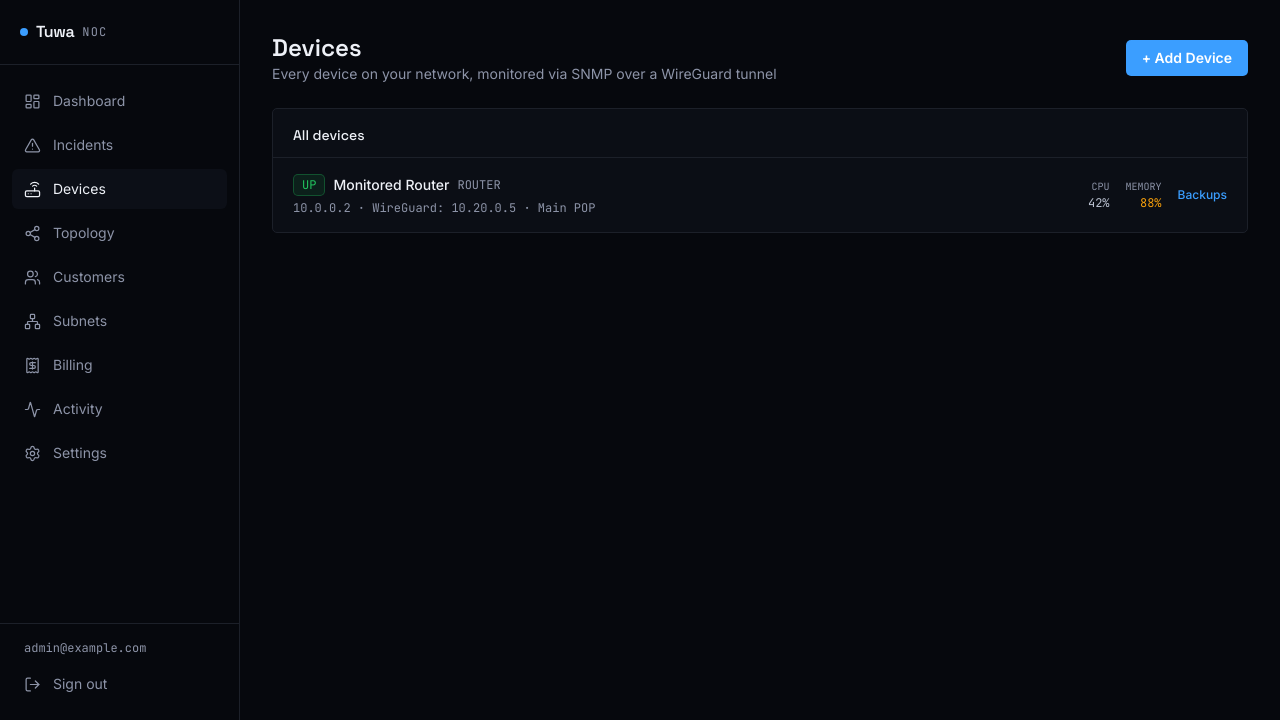
Test case: Devices › expands to show real config backups when Backups is clicked
expect the text "Monitored Router" is shown: met, box [333,175,449,195]
Click the button "Backups": point(1202, 195) [1178,187,1227,203]
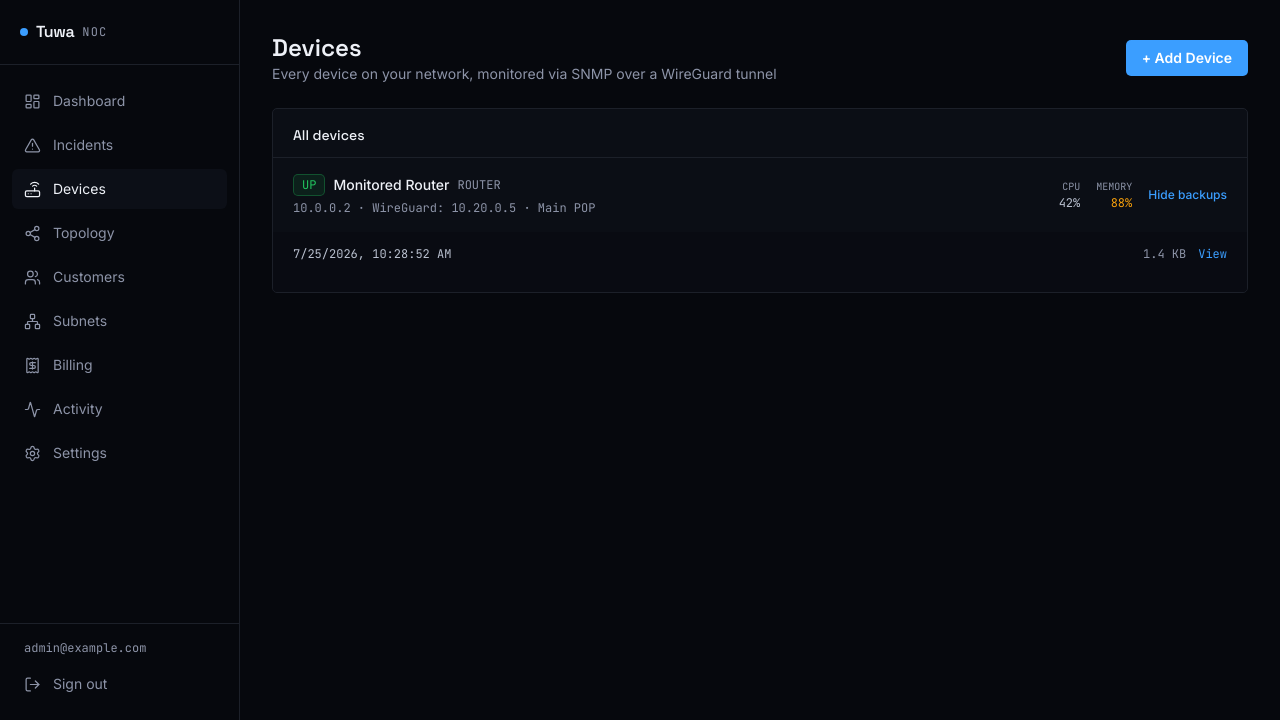
expect the text "1.4 KB" is shown: met, box [1143,246,1186,262]
